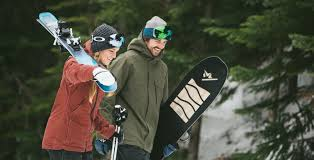snowboard: (148, 54, 230, 160)
